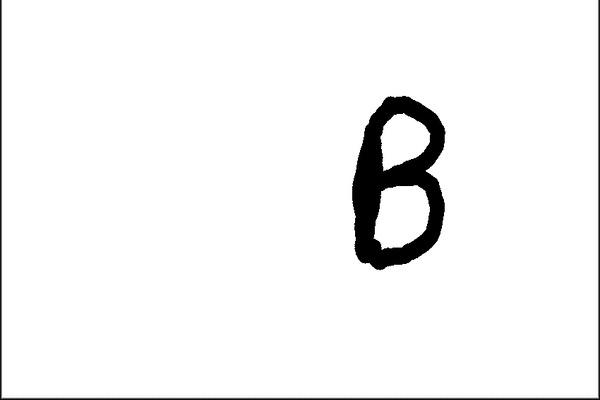B: (341, 87, 452, 278)
